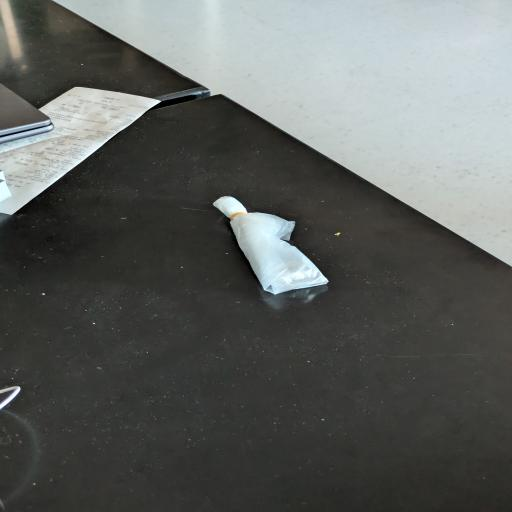rubberband: (209, 193, 334, 297)
